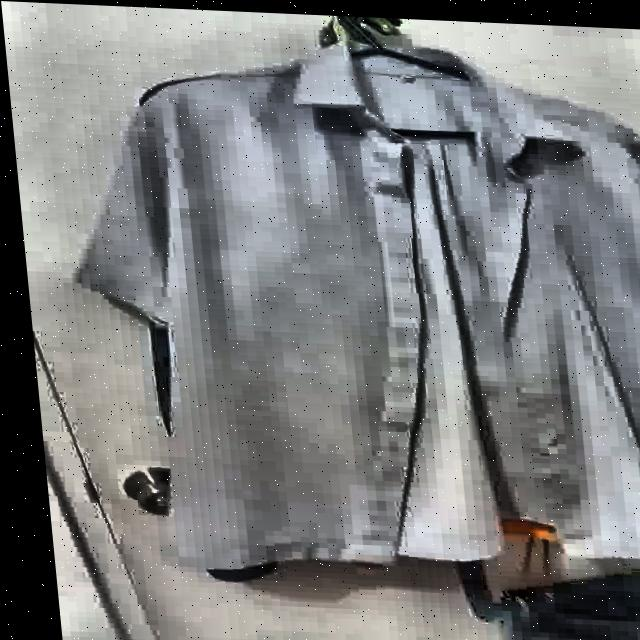clothes: (55, 18, 640, 601)
